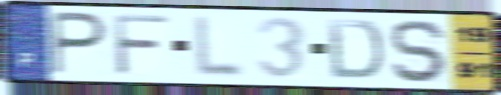3: (254, 15, 310, 82)
D: (325, 17, 387, 82)
F: (110, 12, 172, 78)
L: (192, 14, 247, 81)
P: (48, 9, 110, 78)
S: (388, 18, 451, 85)
